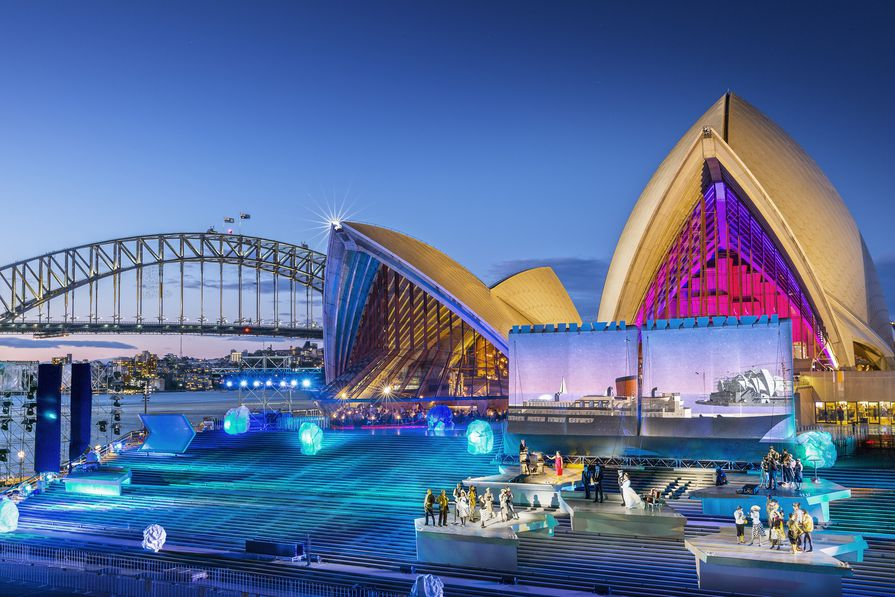opera house: (244, 68, 895, 418)
